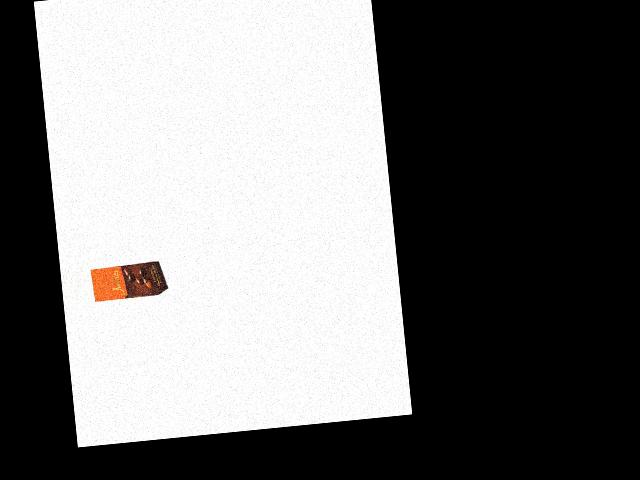chocolate: (90, 256, 168, 303)
